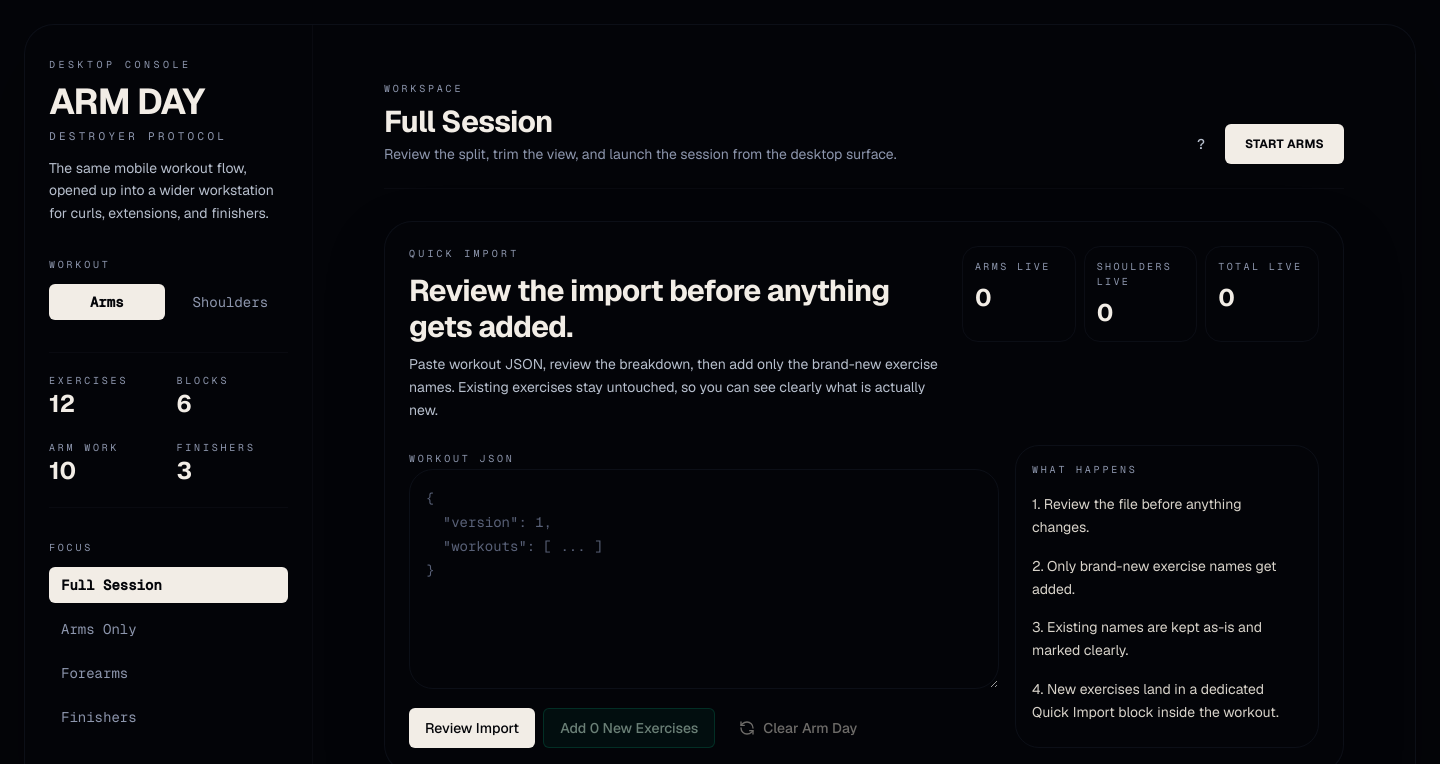
Scenario: App › returns to overview on End
Click the button "Start Arms": (1284,144) [1225,124,1344,164]
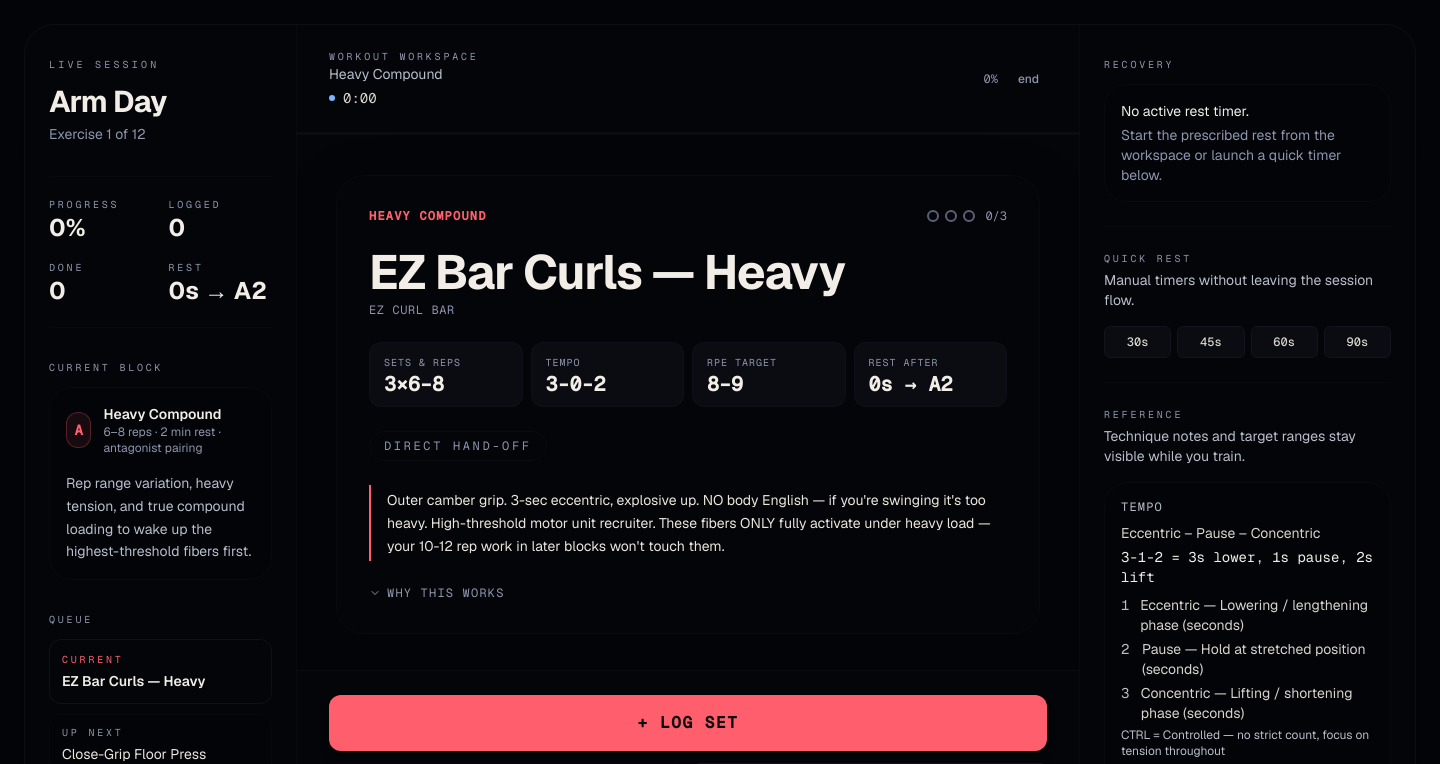
Click the button "end": (1028,78) [1010,64,1047,92]
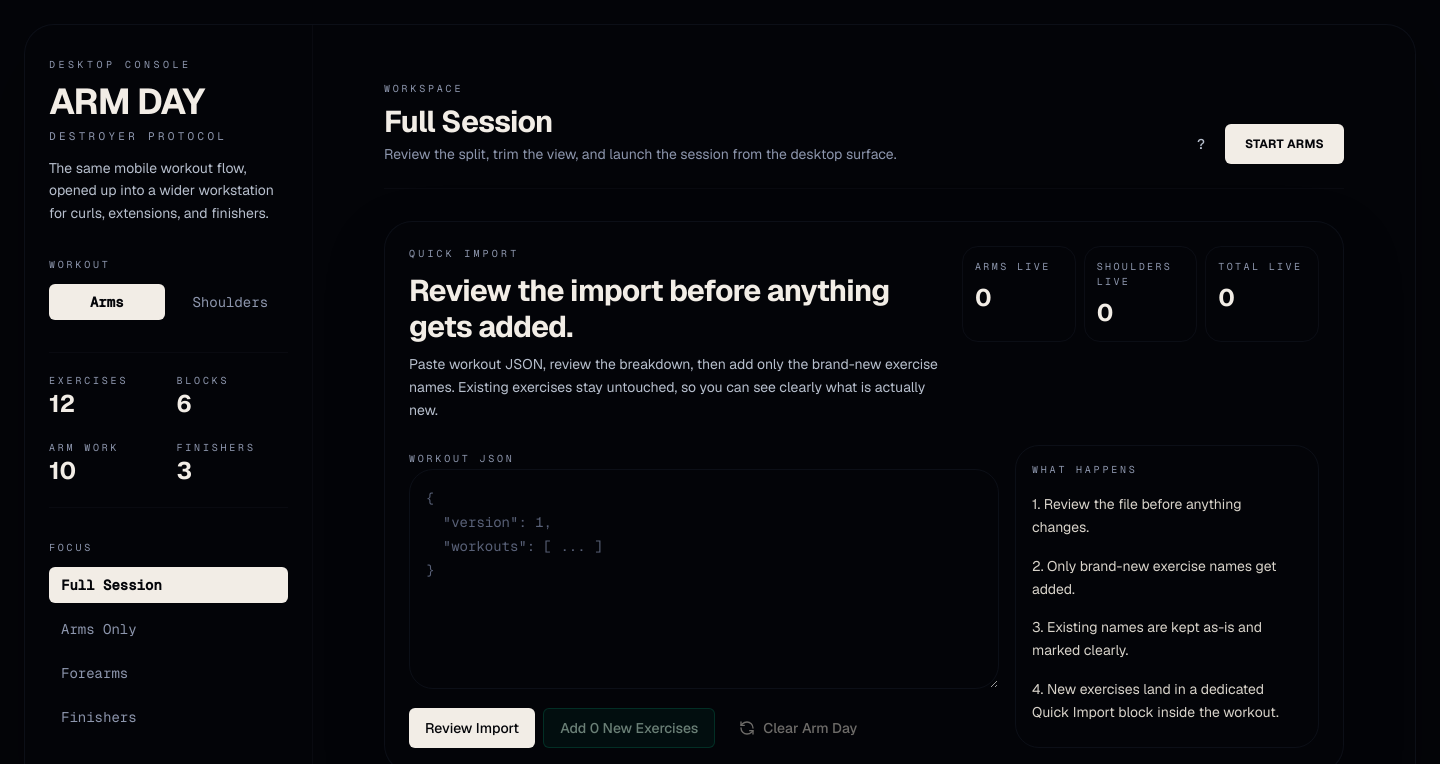
Expected: the button "Start Arms" is shown, [1225,124,1344,164]
